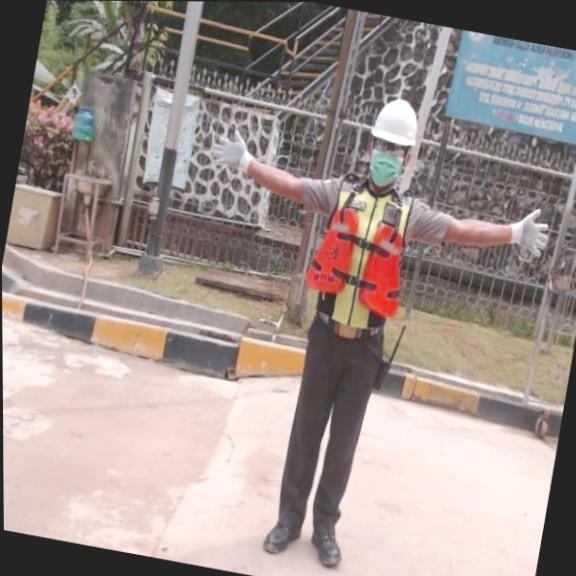safety_vest: (300, 200, 415, 322)
